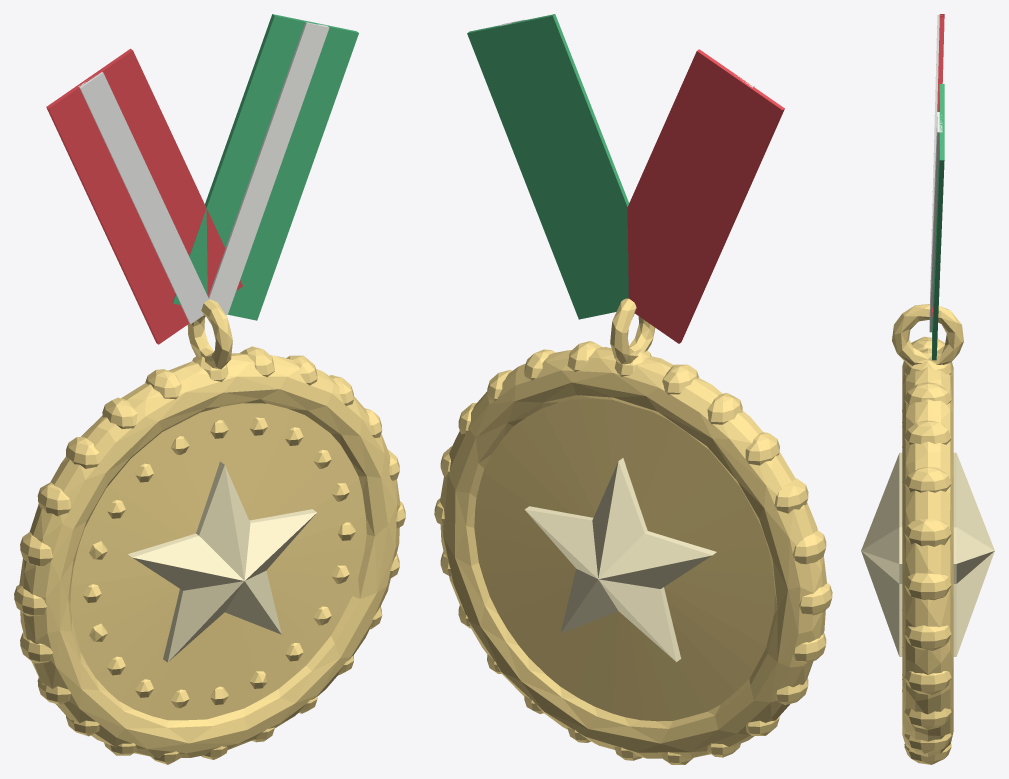
Rendered from Medalla.glb.
3 views of the same model, side by side, from view 1: azimuth 30°, elevation 25°; view 2: azimuth 150°, elevation 25°; view 3: azimuth 270°, elevation 25° (orthographic). The views are drawn at different scales.
Visible parts, largest first — view 1: Medalla; view 2: Medalla; view 3: Medalla.
Part boxes in pixels (<box>): Medalla: <box>14,14,405,764</box>; Medalla: <box>434,14,832,764</box>; Medalla: <box>861,14,994,764</box>.
Size of the model in its own units: 1.09 by 1.95 by 0.34.
